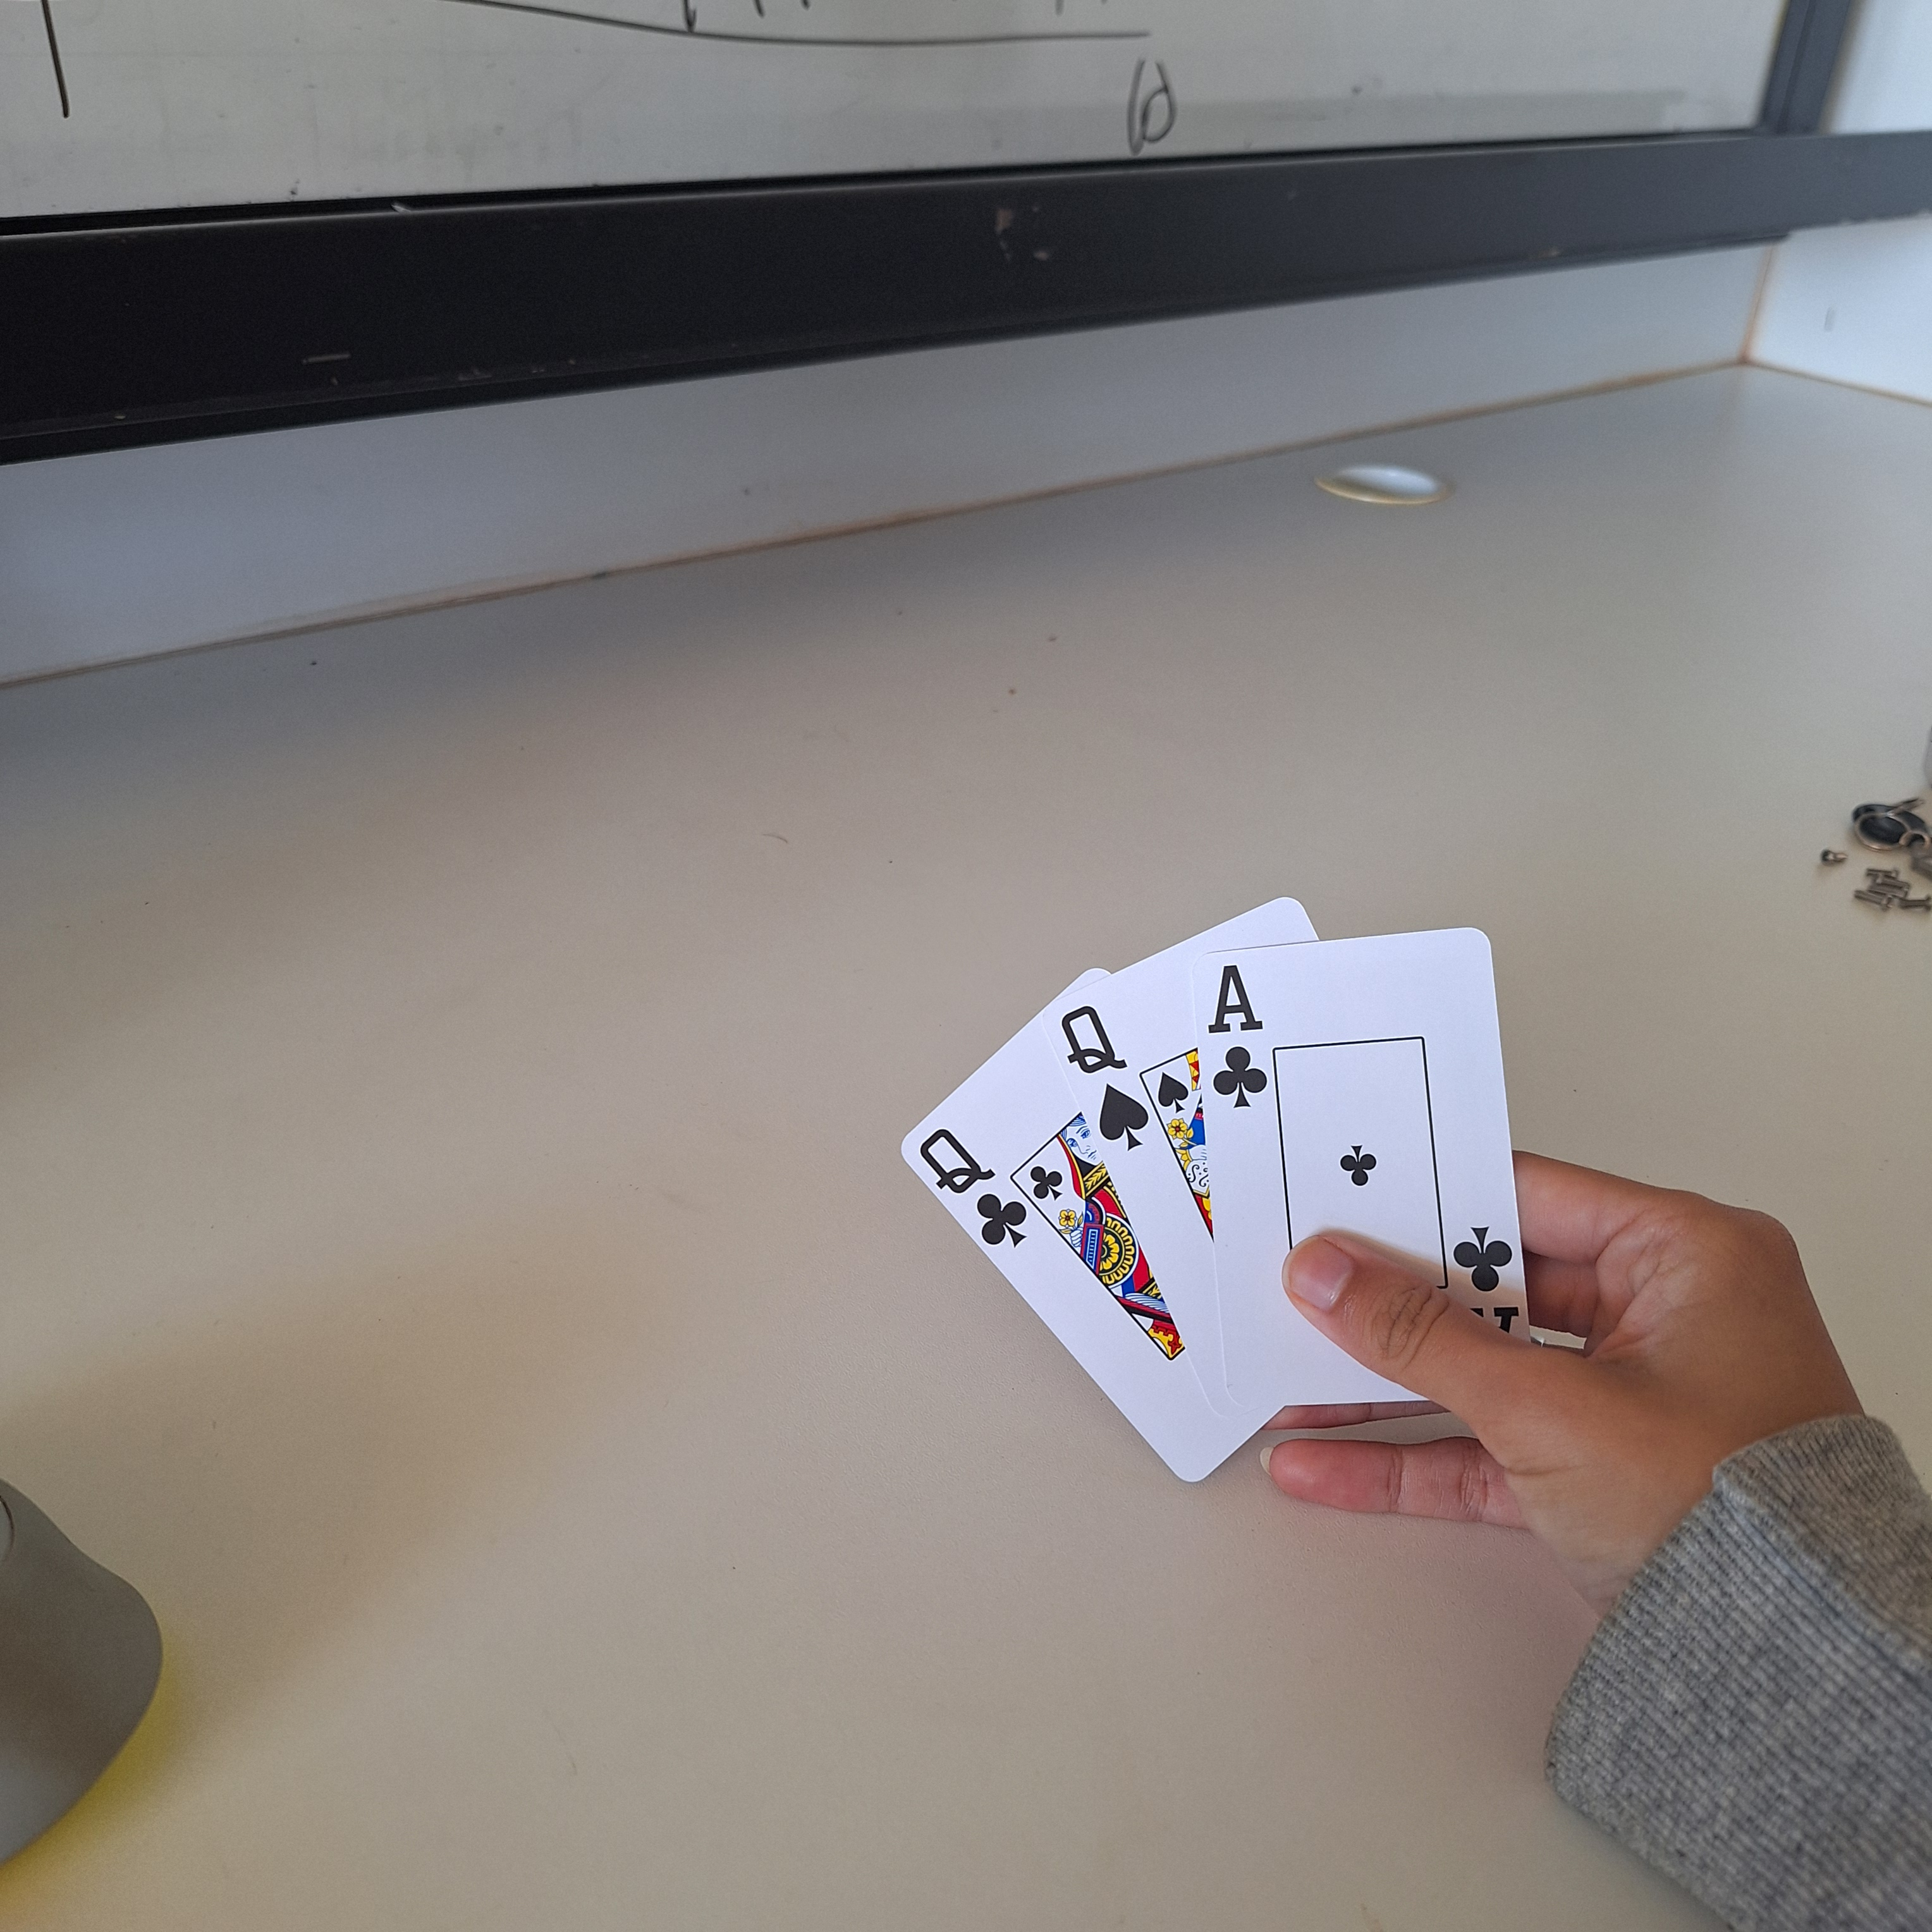AP: (1201, 955, 1277, 1113)
QE: (1053, 998, 1154, 1152)
QP: (911, 1120, 1033, 1254)
